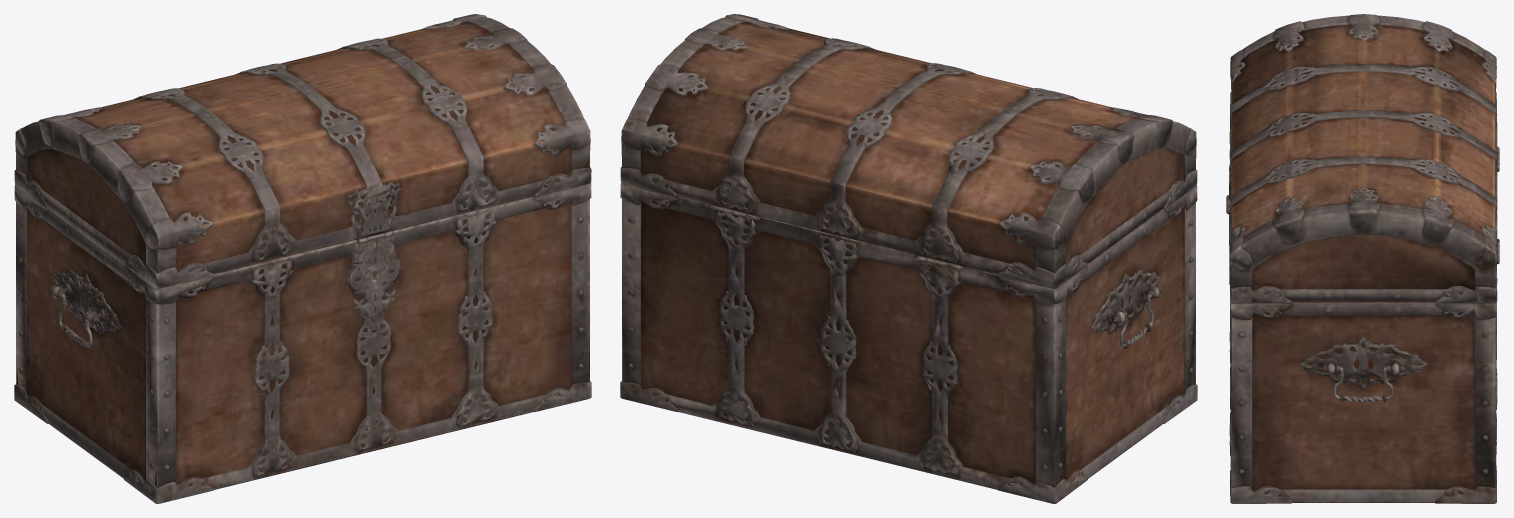
Rendered from chest.glb.
3 views of the same model, side by side, from view 1: azimuth 30°, elevation 25°; view 2: azimuth 150°, elevation 25°; view 3: azimuth 270°, elevation 25° (orthographic). The views are drawn at different scales.
Visible parts, largest first — view 1: treasure_chest_bottom, treasure_chest_lid, treasure_chest_lock, treasure_chest_handle_left; view 2: treasure_chest_bottom, treasure_chest_lid; view 3: treasure_chest_lid, treasure_chest_bottom, treasure_chest_handle_right.
Boxes of the visible parts, x1,y1,x2,y2 form: treasure_chest_bottom: [14, 183, 591, 503]; treasure_chest_lid: [14, 14, 591, 288]; treasure_chest_lock: [349, 233, 399, 322]; treasure_chest_handle_left: [50, 285, 100, 348]; treasure_chest_bottom: [620, 183, 1197, 503]; treasure_chest_lid: [620, 14, 1197, 288]; treasure_chest_lid: [1226, 14, 1499, 303]; treasure_chest_bottom: [1229, 152, 1499, 503]; treasure_chest_handle_right: [1320, 365, 1406, 402].
Bounding box in the file's own units: 0.959 × 0.6188 × 0.5223.
1 material, 1 textured.
